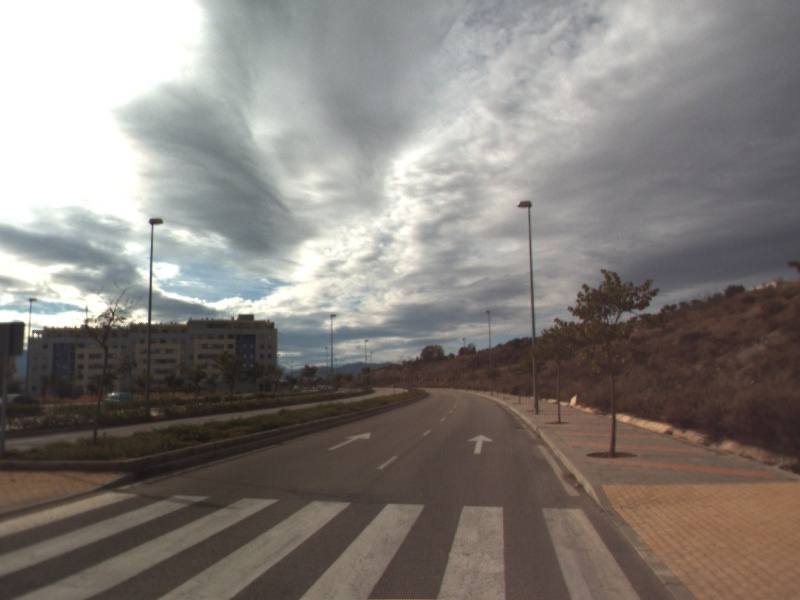STRAIGHT: (325, 430, 373, 452), (466, 432, 496, 456)
